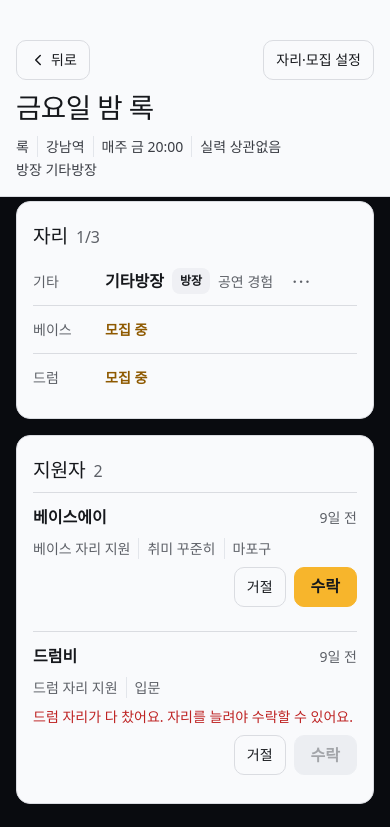
Test: 밴드 상세 › 방장: 자리가 찬 지원자는 수락할 수 없고, 서버 거절 문구를 보여준다
This screenshot has width=390, height=827.
(page scrolled)
Check: the button "수락" below "자리가 다 찼어요. 자리를 늘려야 수락할 수 있어요." is disabled, box [294,735,357,775]
Check: the text "드럼 자리가 다 찼어요. 자리를 늘려야 수락할 수 있어요." is shown, box [33,706,357,727]
Click the button "수락" below "베이스 자리 지원": point(325, 587) [294,567,357,607]
(page scrolled)
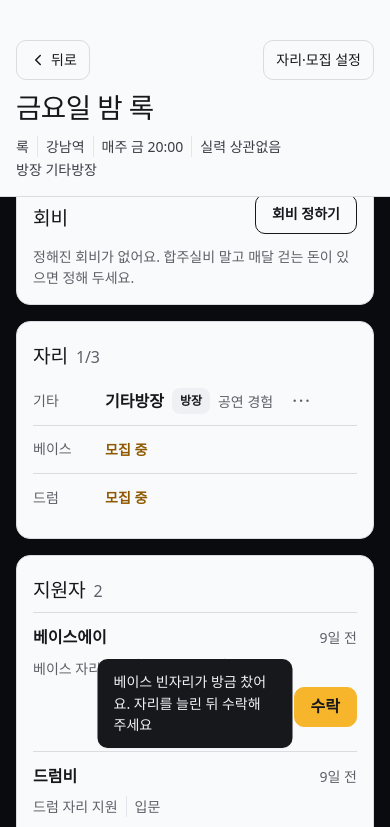
Check: the message reads "베이스 빈자리가 방금 찼어요. 자리를 늘린 뒤 수락해 주세요", box [114,672,266,734]
